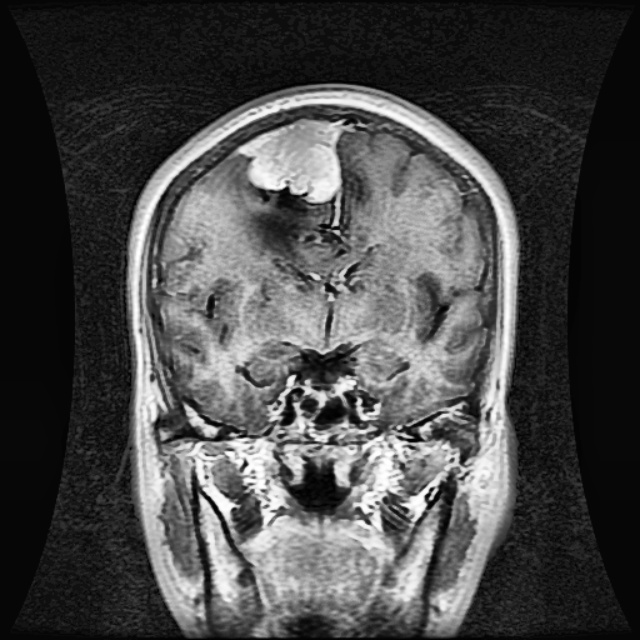Glioma: (239, 118, 342, 203)
